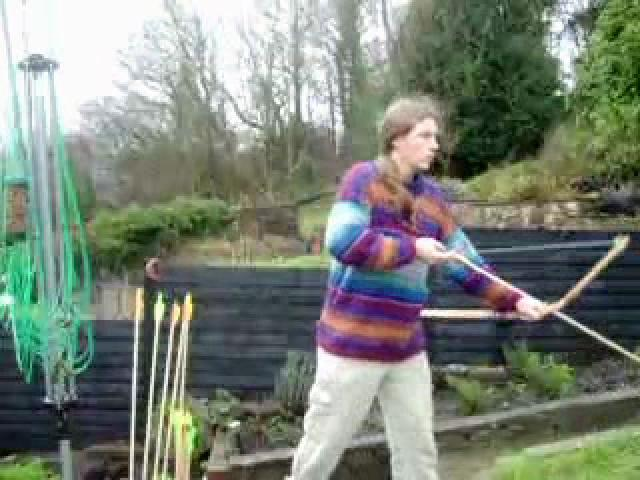I: (273, 96, 546, 478)
